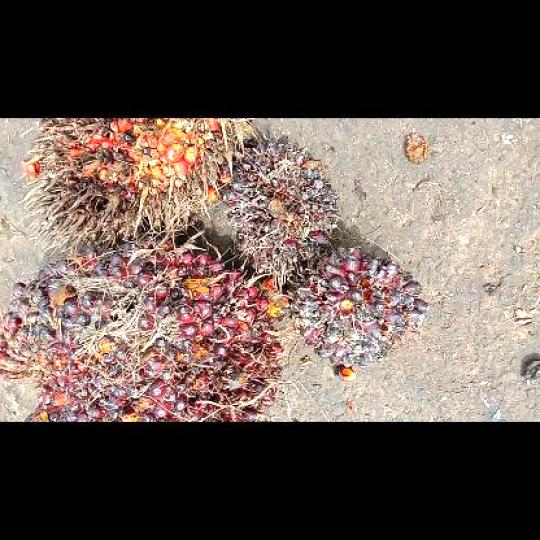masak: (0, 239, 286, 420)
terlalu masak: (15, 119, 250, 250)
